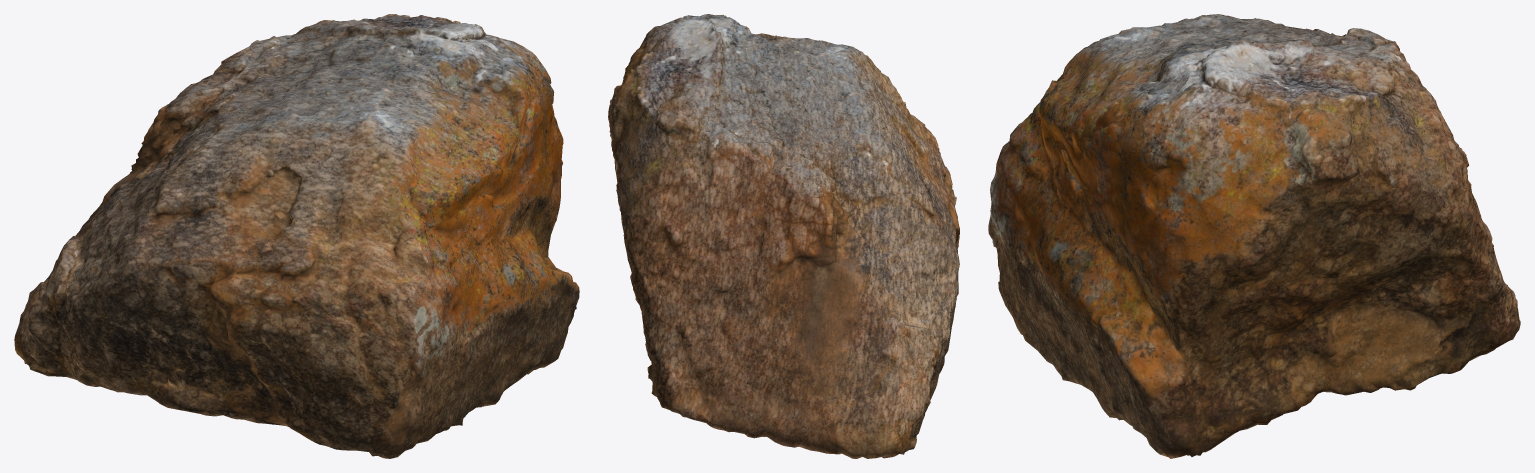
The model's file is namaqualand_boulder_04.glb.
3 views of the same model, side by side, from view 1: azimuth 30°, elevation 25°; view 2: azimuth 150°, elevation 25°; view 3: azimuth 270°, elevation 25° (orthographic). The views are drawn at different scales.
Parts seen in each view (by area): view 1: boulder_04; view 2: boulder_04; view 3: boulder_04.
Boxes of the visible parts, bbox=[...] form: boulder_04: bbox=[14, 14, 579, 458]; boulder_04: bbox=[608, 14, 959, 458]; boulder_04: bbox=[988, 14, 1520, 458].
Bounding box in the file's own units: 2.52 × 1.9 × 2.5.
Materials: 1 (1 with a texture image).
